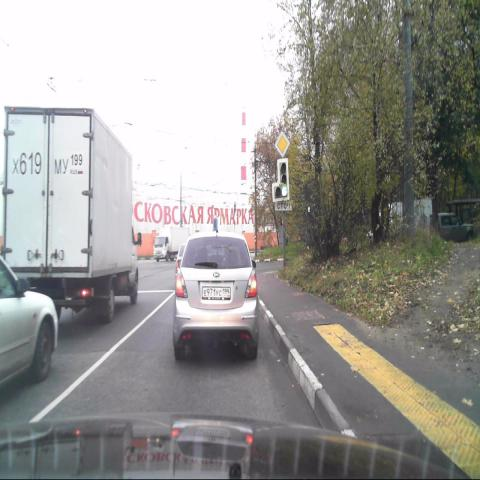2_1: (274, 131, 290, 158)
6_16: (275, 200, 292, 211)
